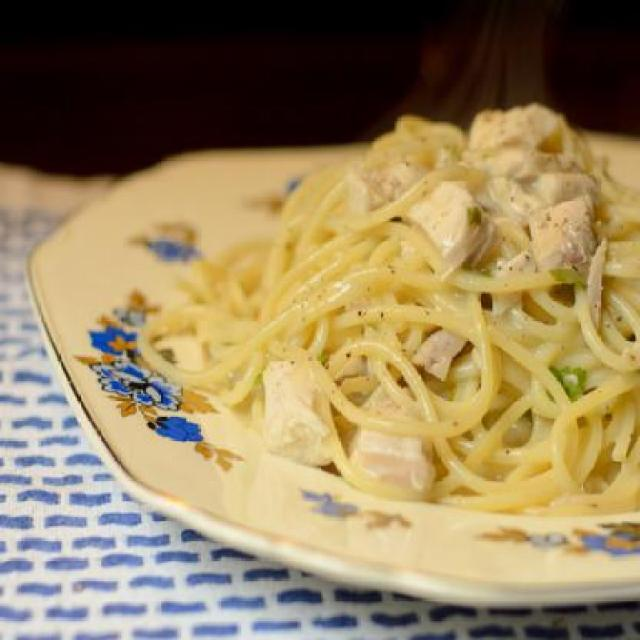Oil pasta: (210, 75, 638, 593)
